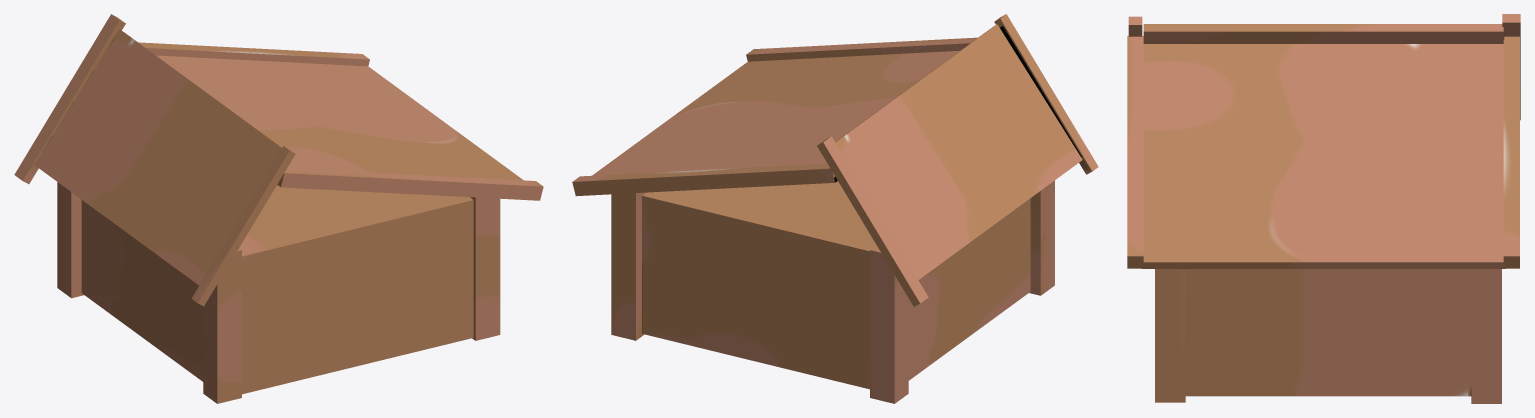
The model's file is house.glb.
3 renders of one model, left to right at view 1: azimuth 30°, elevation 25°; view 2: azimuth 150°, elevation 25°; view 3: azimuth 270°, elevation 25°, orthographic. The views are drawn at different scales.
Visible parts, largest first — view 1: Cube; view 2: Cube; view 3: Cube.
Boxes of the visible parts, x1=… form: Cube: x1=14, y1=14, x2=543, y2=403; Cube: x1=572, y1=14, x2=1098, y2=403; Cube: x1=1127, y1=14, x2=1520, y2=403.
Size of the model in its own units: 10.56 by 7.32 by 9.55.
1 material, 1 textured.
